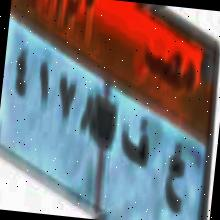1: (28, 56, 58, 126)
4: (9, 46, 32, 115)
7: (53, 69, 81, 138)
8: (76, 90, 98, 150)
faa: (116, 108, 154, 196)
khaa: (158, 136, 190, 220)
